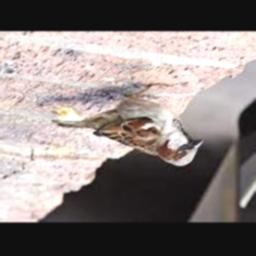Sparrow: (52, 85, 204, 167)
